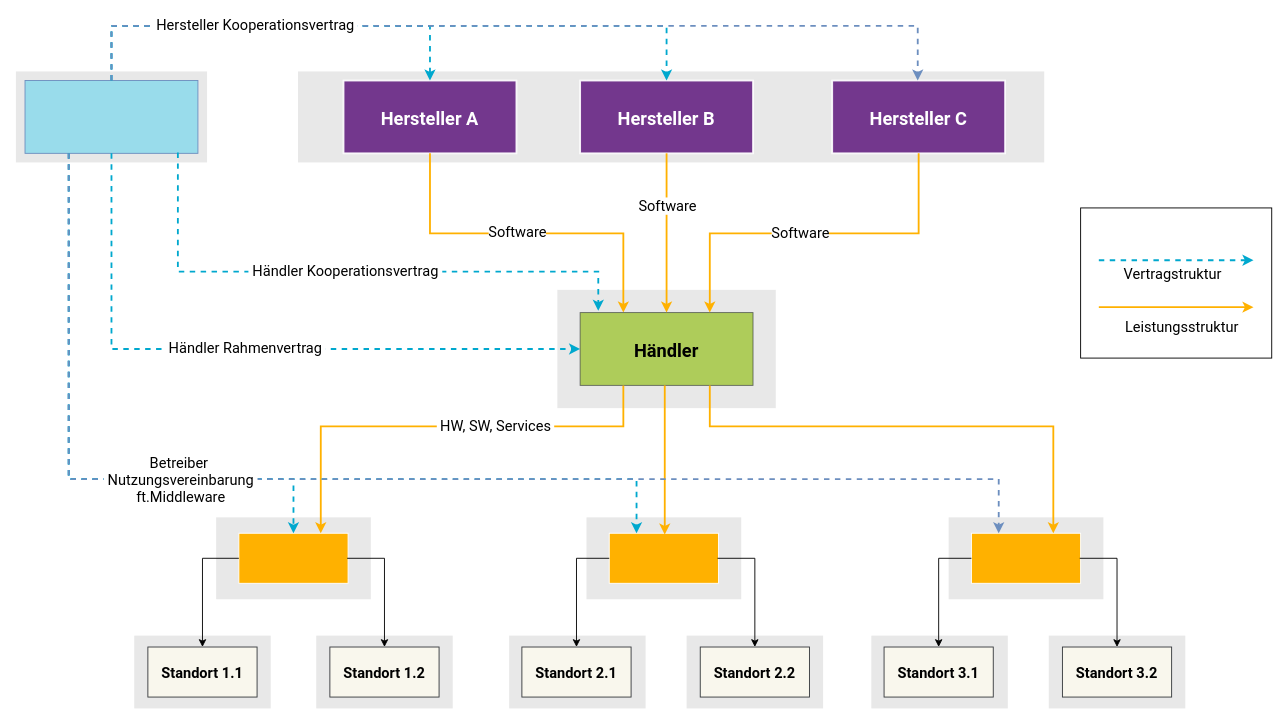
This 1288x723 diagram has some shape labels left out. Here are the shapes that lost their labels. From the top down, the box of each, then its label:
(24, 80, 198, 153): fiskaltrust
(1080, 207, 1272, 358): Legende:
(238, 532, 348, 583): Betreiber 1
(608, 532, 718, 583): Betreiber 2
(971, 532, 1081, 583): Betreiber 3
